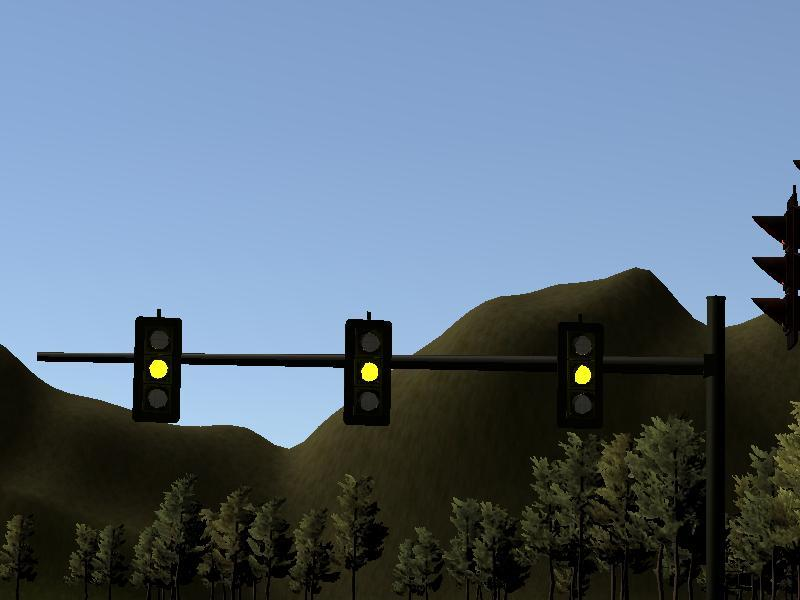Yellow: (559, 321, 606, 427), (343, 319, 390, 425), (134, 316, 181, 422)
